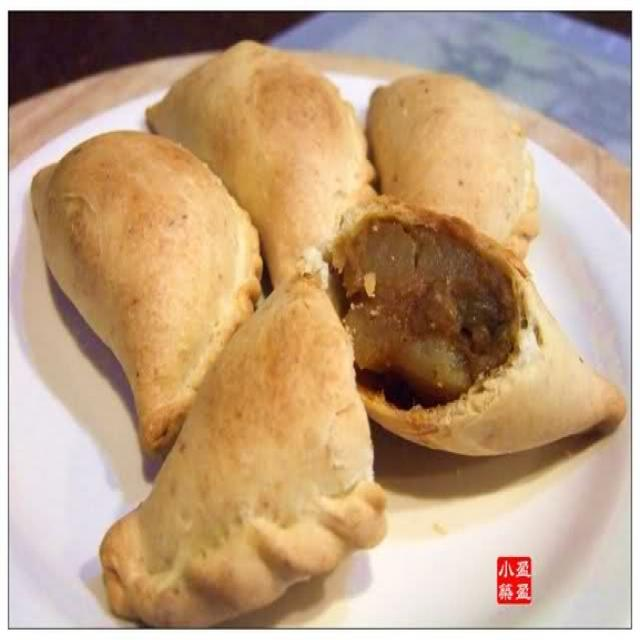炸货点心: (31, 51, 601, 602)
